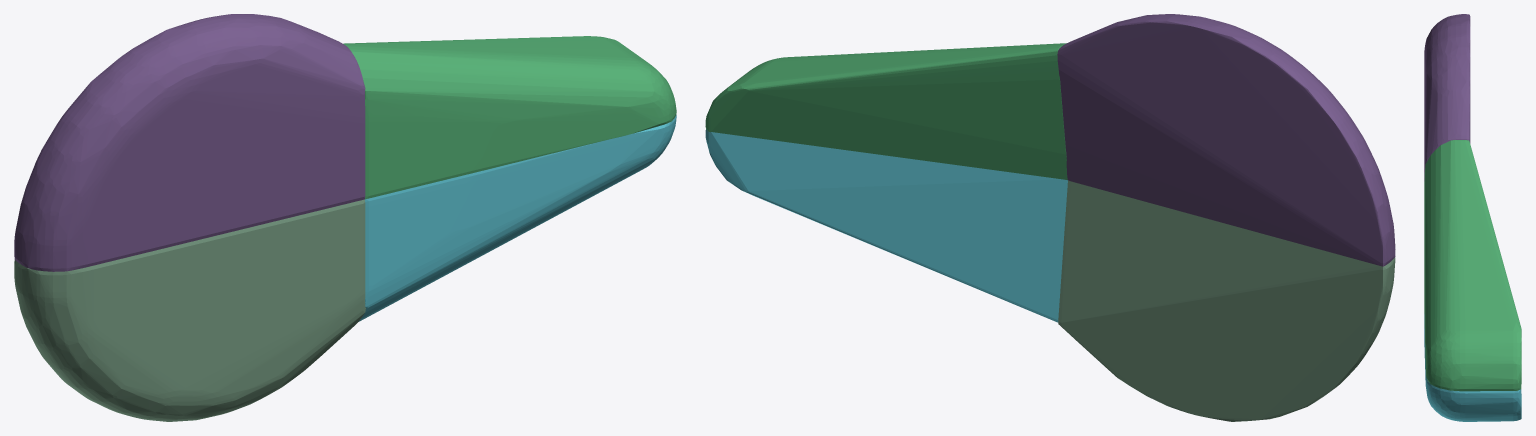
File: toe-output_split.obj
The picture shows the model from 3 angles, left to right: view 1: azimuth 30°, elevation 25°; view 2: azimuth 150°, elevation 25°; view 3: azimuth 270°, elevation 25°; orthographic projection. The views are drawn at different scales.
Visible parts, largest first — view 1: geometry_1, geometry_0, geometry_3, geometry_2; view 2: geometry_1, geometry_0, geometry_3, geometry_2; view 3: geometry_3, geometry_1, geometry_2.
Boxes of the visible parts, bbox=[...] form: geometry_1: bbox=[14, 14, 365, 271]; geometry_0: bbox=[14, 199, 365, 421]; geometry_3: bbox=[343, 36, 676, 199]; geometry_2: bbox=[358, 115, 676, 321]; geometry_1: bbox=[1057, 14, 1395, 266]; geometry_0: bbox=[1058, 180, 1395, 421]; geometry_3: bbox=[705, 43, 1067, 180]; geometry_2: bbox=[705, 129, 1067, 322]; geometry_3: bbox=[1424, 140, 1521, 391]; geometry_1: bbox=[1424, 14, 1470, 181]; geometry_2: bbox=[1424, 313, 1521, 421].
Size of the model in its own units: 0.0902 by 0.0517 by 0.0137.
